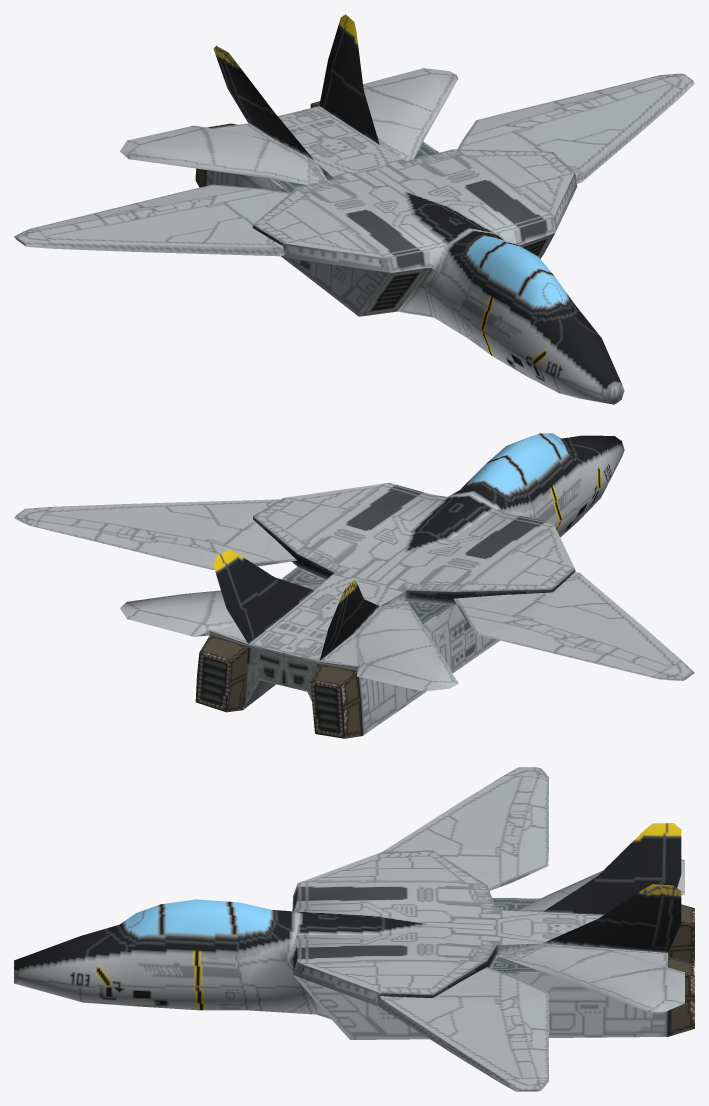
3 views of the same model, one above another, from view 1: azimuth 30°, elevation 25°; view 2: azimuth 150°, elevation 25°; view 3: azimuth 270°, elevation 25° (orthographic).
Visible parts, largest first — view 1: body, wing_right, wing_left; view 2: body, wing_right, wing_left; view 3: body, wing_left, wing_right.
Boxes of the visible parts, <box> form: body: <box>120,14,624,404</box>; wing_right: <box>14,184,289,256</box>; wing_left: <box>457,73,694,183</box>; body: <box>120,433,624,738</box>; wing_right: <box>453,572,694,681</box>; wing_left: <box>14,499,296,569</box>; body: <box>14,823,694,1039</box>; wing_left: <box>377,967,548,1091</box>; wing_right: <box>382,767,548,890</box>.
Size of the model in its own units: 230 by 51.57 by 205.
